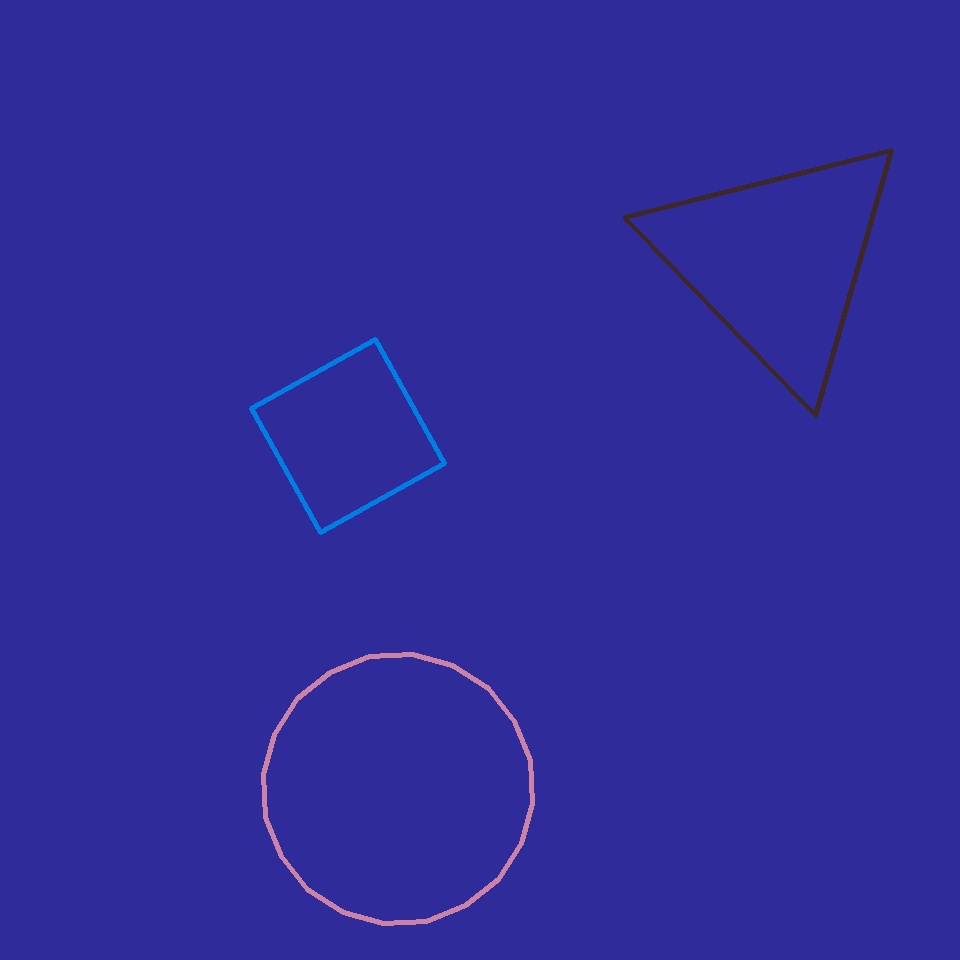circle: (644, 128, 910, 394)
square: (252, 340, 444, 532)
triangle: (264, 654, 532, 924)
